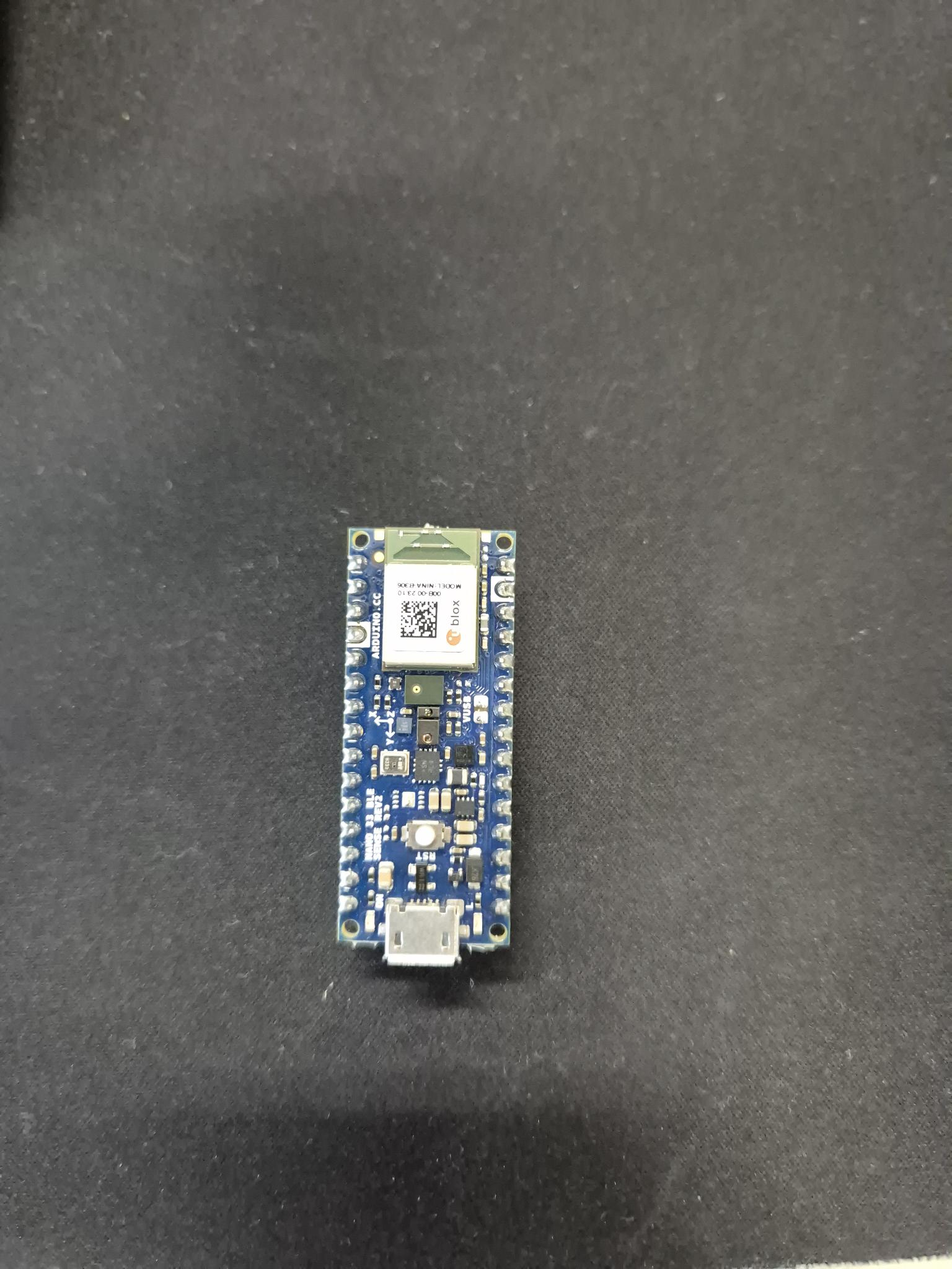arduino-nano-ble-sense: (338, 525, 515, 966)
